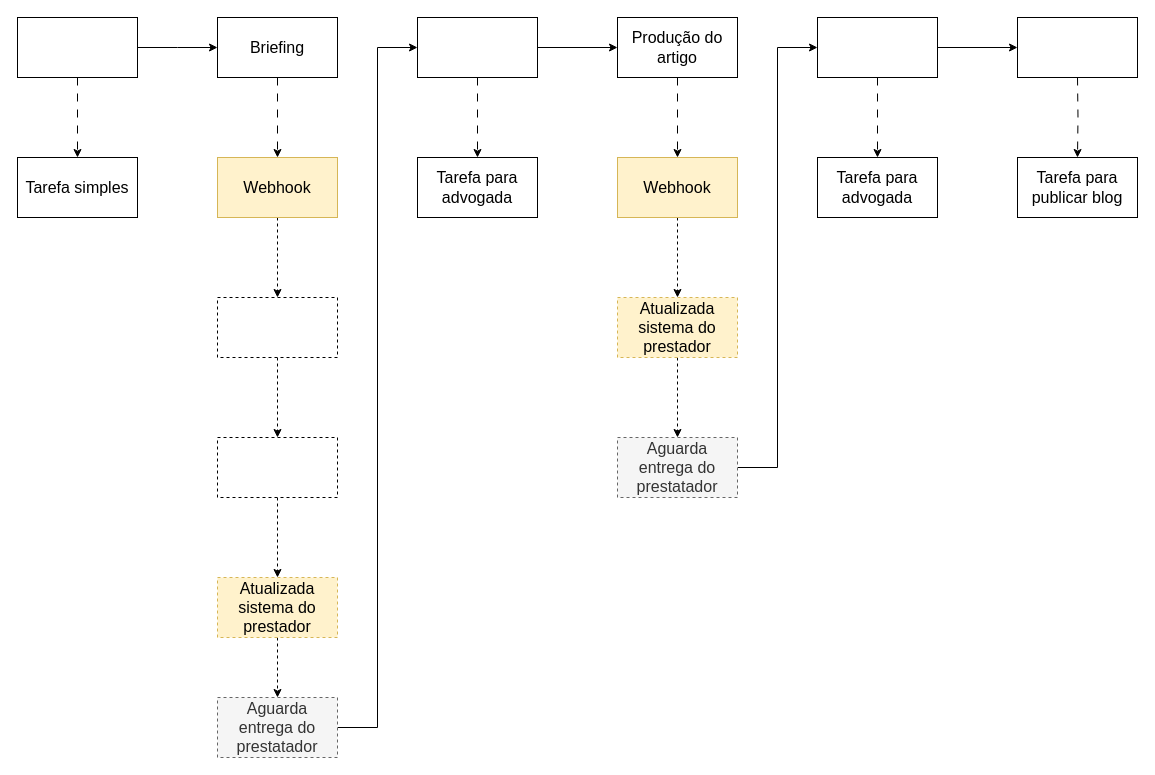
This 1155x775 diagram has some shape labels left out. Here are the shapes that lost their labels. From the top down, the centre of each, then its label:
[77,47]: Ideias
[477,47]: Briefing (aprovação)
[877,47]: Artigo (aprovação)
[1077,47]: Publicar no blog
[277,327]: Cria pasta no Google Drive
[277,467]: Atualiza card com link da pasta
